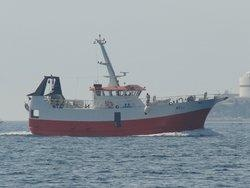otherboat: (21, 32, 229, 140)
